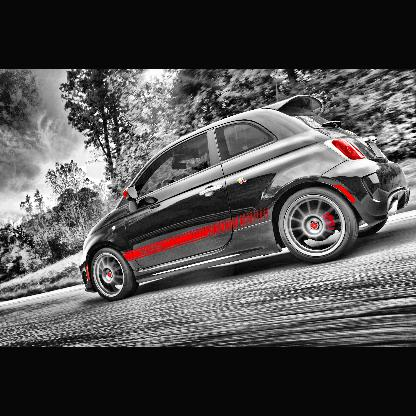FIAT 500 Abarth 2012: (80, 92, 411, 309)
